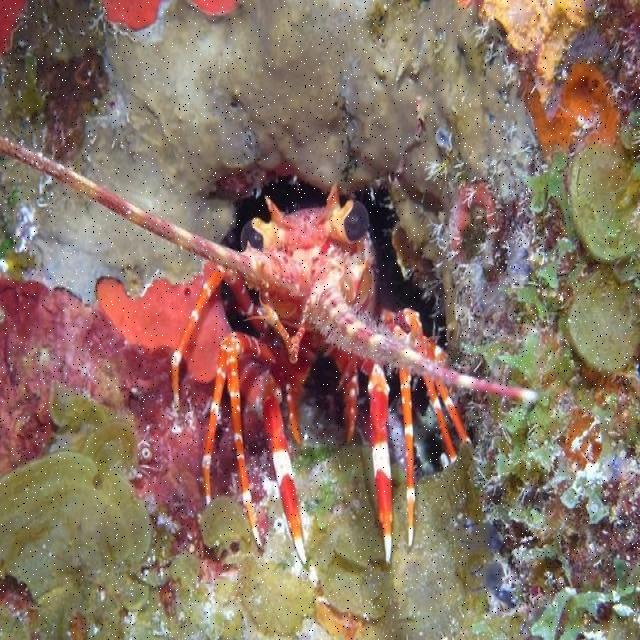reefs: (0, 137, 538, 566)
